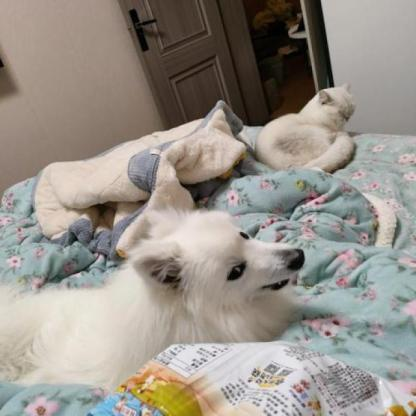cat: (253, 86, 359, 173)
dog: (107, 179, 297, 348)
